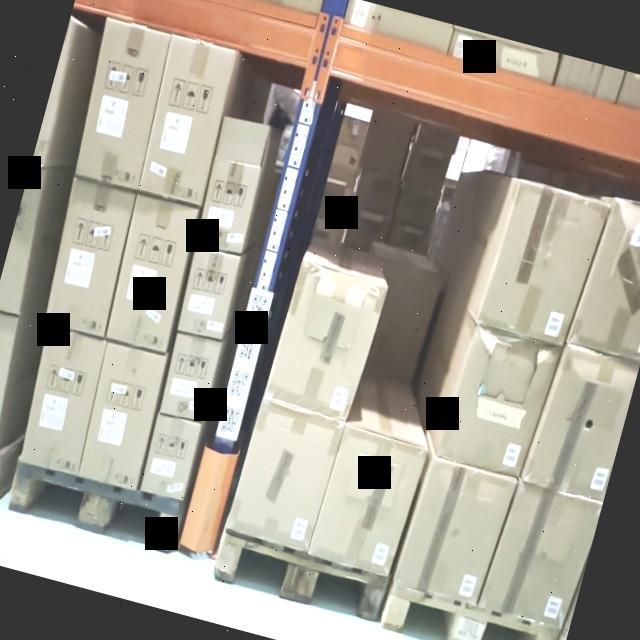box: (261, 264, 389, 424), (478, 184, 600, 346), (311, 424, 425, 582), (440, 326, 558, 476), (67, 22, 168, 197), (102, 196, 202, 354), (228, 409, 338, 551), (398, 462, 508, 600), (136, 41, 232, 198), (72, 344, 172, 492), (45, 184, 137, 342), (19, 332, 108, 472), (197, 154, 263, 253), (161, 332, 220, 419), (140, 418, 204, 498), (179, 252, 236, 336)
